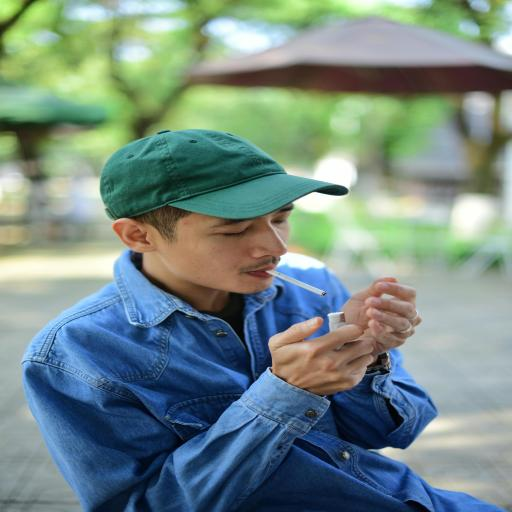membakar rokok: (178, 224, 384, 381)
